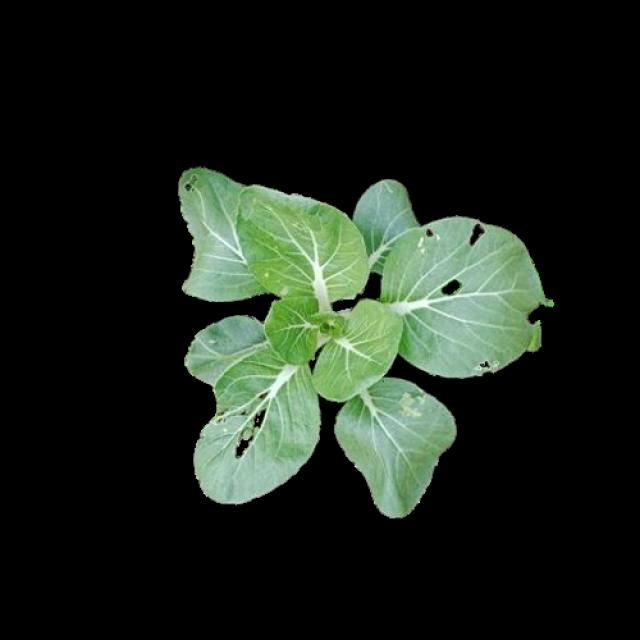not-mature: (168, 165, 550, 517)
unhealthy: (382, 216, 546, 374), (196, 350, 321, 500), (336, 382, 456, 514)
